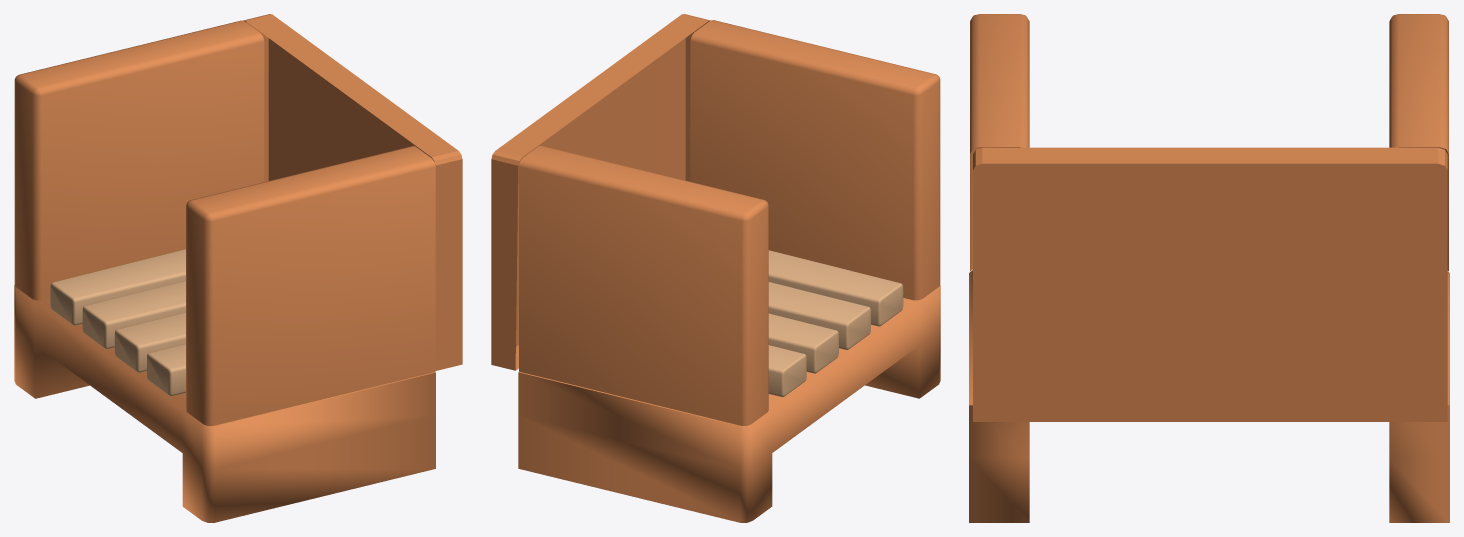
Rendered from Foodrack_extra.fbx.
The picture shows the model from 3 angles, left to right: view 1: azimuth 30°, elevation 25°; view 2: azimuth 150°, elevation 25°; view 3: azimuth 270°, elevation 25°; orthographic projection. The views are drawn at different scales.
Parts seen in each view (by area): view 1: extra; view 2: extra; view 3: extra.
Part boxes in pixels (left/top/right/bottom): extra: left=14, top=14, right=462, bottom=522; extra: left=491, top=14, right=940, bottom=522; extra: left=969, top=14, right=1449, bottom=522.
Size of the model in its own units: 154 by 176 by 204.
